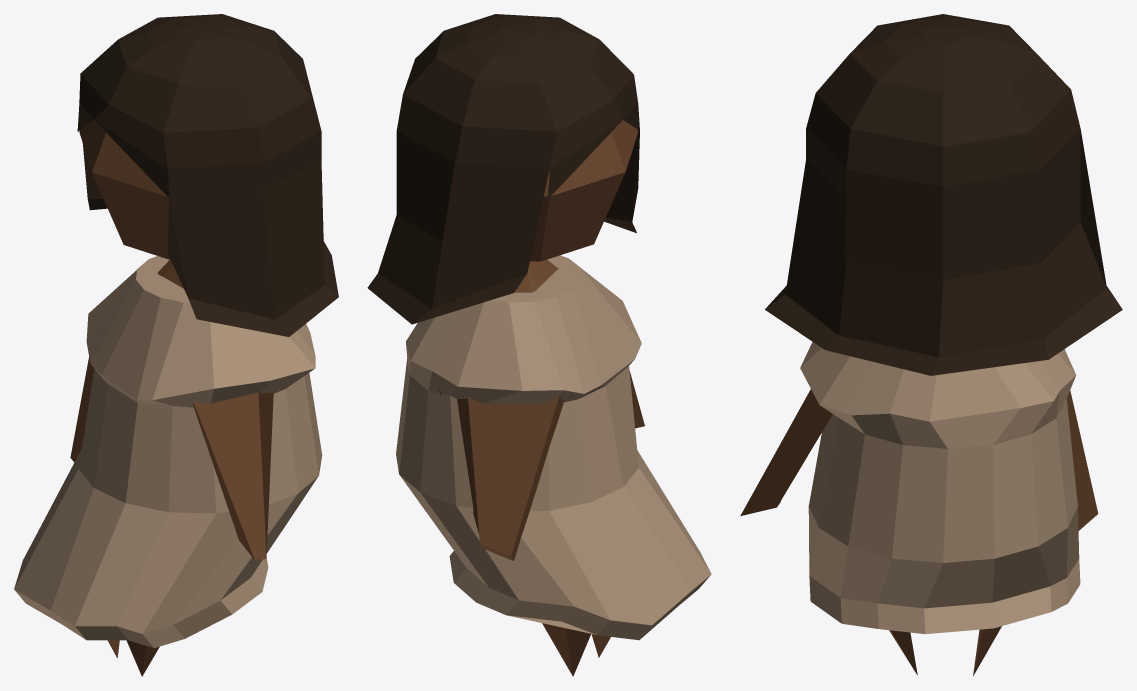
File: TigerGameDollW_Dress.fbx
The picture shows the model from 3 angles, left to right: view 1: azimuth 30°, elevation 25°; view 2: azimuth 150°, elevation 25°; view 3: azimuth 270°, elevation 25°; orthographic projection. The views are drawn at different scales.
Parts seen in each view (by area): view 1: Icosphere; view 2: Icosphere; view 3: Icosphere.
Part boxes in pixels (<box>): Icosphere: <box>14,14,338,676</box>; Icosphere: <box>367,14,711,676</box>; Icosphere: <box>740,14,1122,676</box>.
Size of the model in its own units: 265 by 545 by 279.
